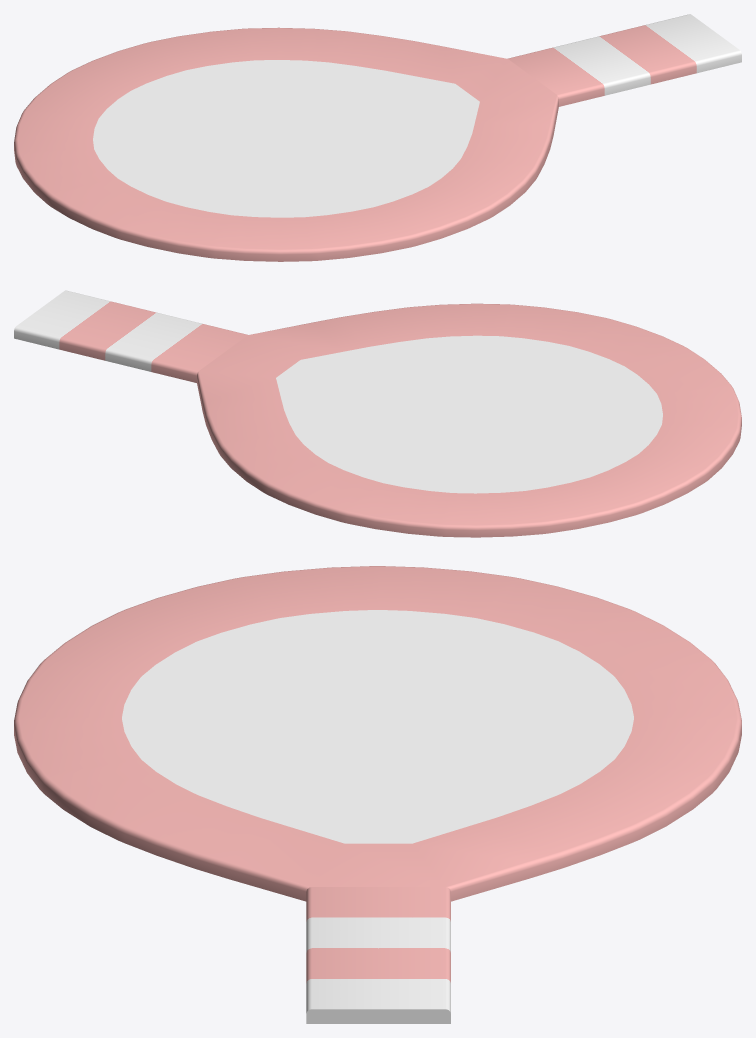
Rendered from FinishCircle_red.fbx.
3 views of the same model, one above another, from view 1: azimuth 30°, elevation 25°; view 2: azimuth 150°, elevation 25°; view 3: azimuth 270°, elevation 25° (orthographic). The views are drawn at different scales.
Visible parts, largest first — view 1: FinishCircle_red; view 2: FinishCircle_red; view 3: FinishCircle_red.
Part boxes in pixels (box(x1,y1,x2,y2)): FinishCircle_red: box(14, 14, 741, 261); FinishCircle_red: box(14, 290, 741, 537); FinishCircle_red: box(14, 566, 741, 1023).
Bounding box in the file's own units: 2184 × 33.69 × 1510.
Materials: 1 (1 with a texture image).
